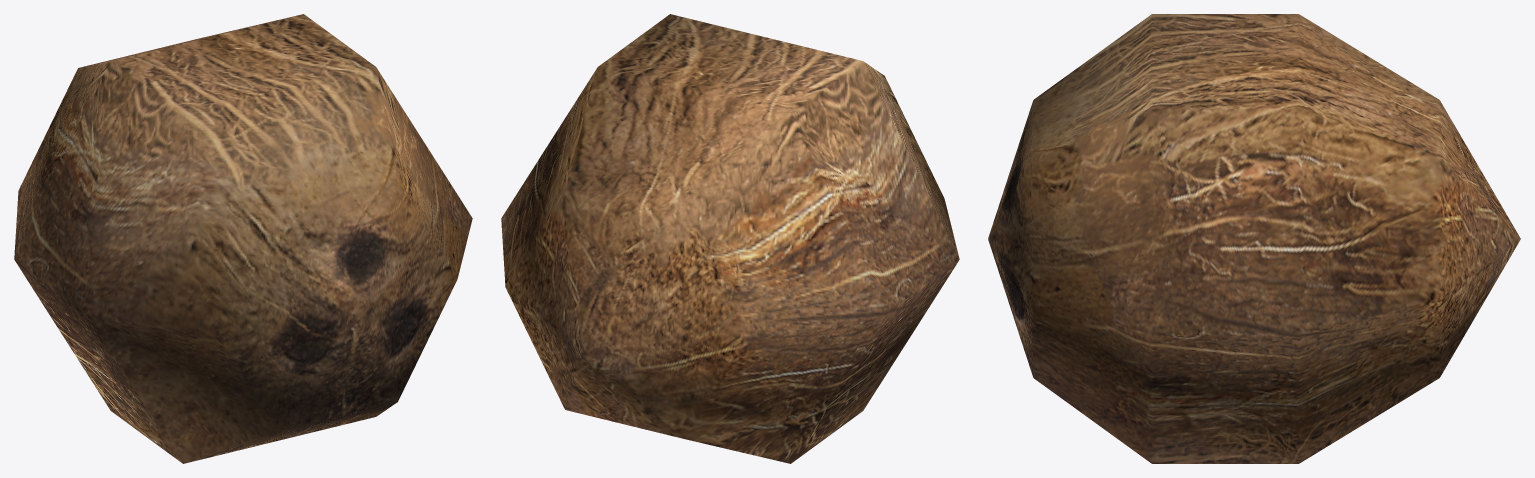
The model's file is Coconut.fbx.
3 views of the same model, side by side, from view 1: azimuth 30°, elevation 25°; view 2: azimuth 150°, elevation 25°; view 3: azimuth 270°, elevation 25° (orthographic).
Parts seen in each view (by area): view 1: pSphere1; view 2: pSphere1; view 3: pSphere1.
Boxes of the visible parts, <box> form: pSphere1: <box>14,14,472,463</box>; pSphere1: <box>501,14,959,463</box>; pSphere1: <box>988,14,1520,463</box>.
Bounding box in the file's own units: 0.4647 × 0.4024 × 0.5483.
